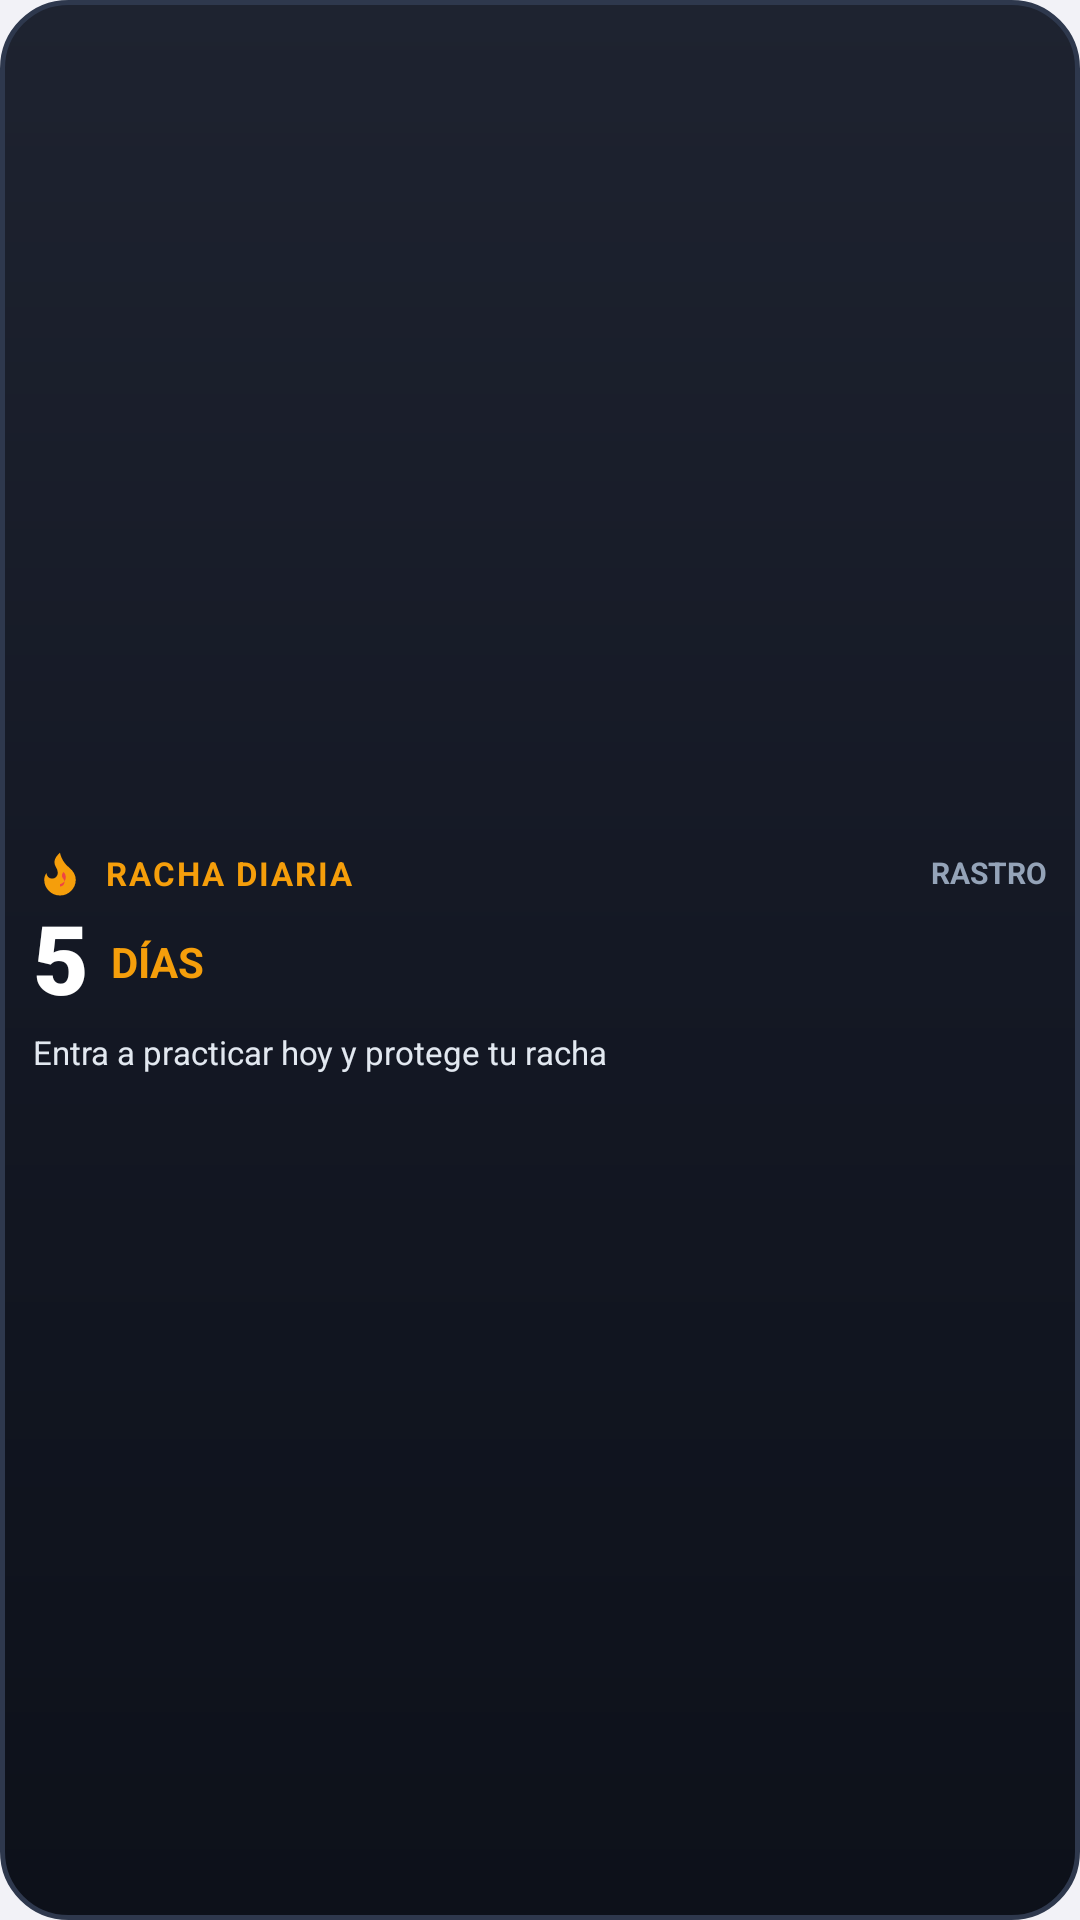

Icons on this 1080x1920 Android screen, each with its box as Rect(x1, y1, x2, y2):
Llama de racha: Rect(44, 853, 76, 896)
